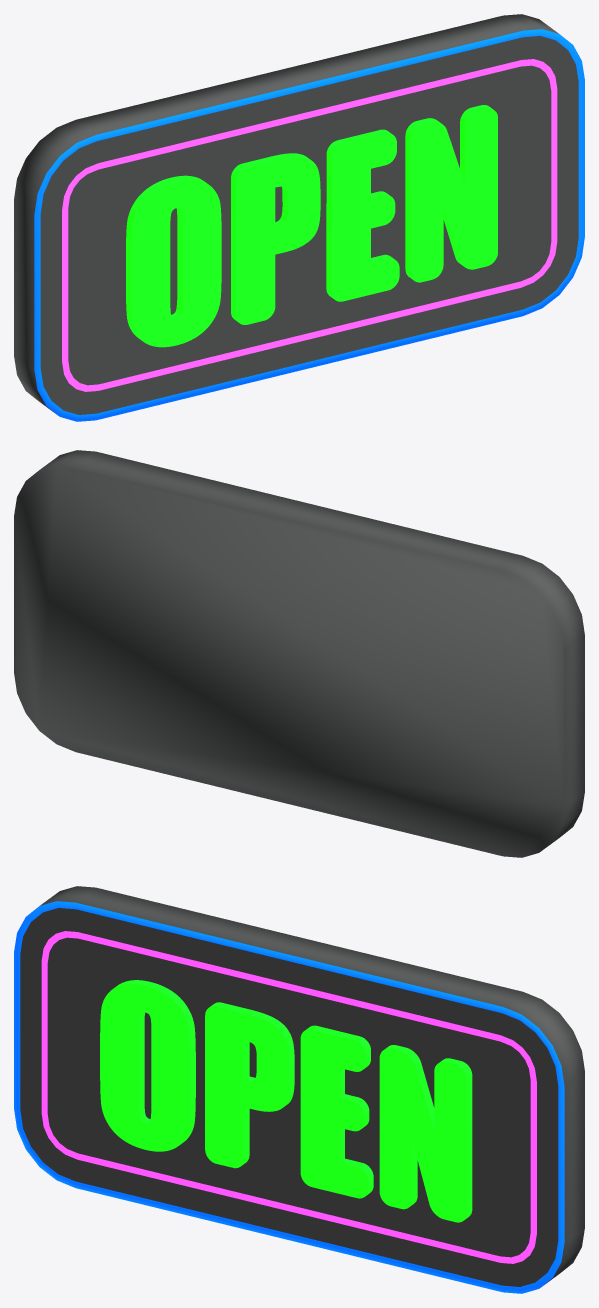
3 views of the same model, one above another, from view 1: azimuth 30°, elevation 25°; view 2: azimuth 150°, elevation 25°; view 3: azimuth 330°, elevation 25° (orthographic).
Parts seen in each view (by area): view 1: Cube.001, Text; view 2: Cube.001; view 3: Cube.001, Text.
Part boxes in pixels (left/top/right/bottom): Cube.001: left=14, top=14, right=584, bottom=421; Text: left=126, top=105, right=497, bottom=347; Cube.001: left=14, top=450, right=584, bottom=857; Cube.001: left=14, top=886, right=584, bottom=1293; Text: left=100, top=980, right=472, bottom=1222.
Bounding box in the file's own units: 0.6377 × 0.3161 × 0.0518.
